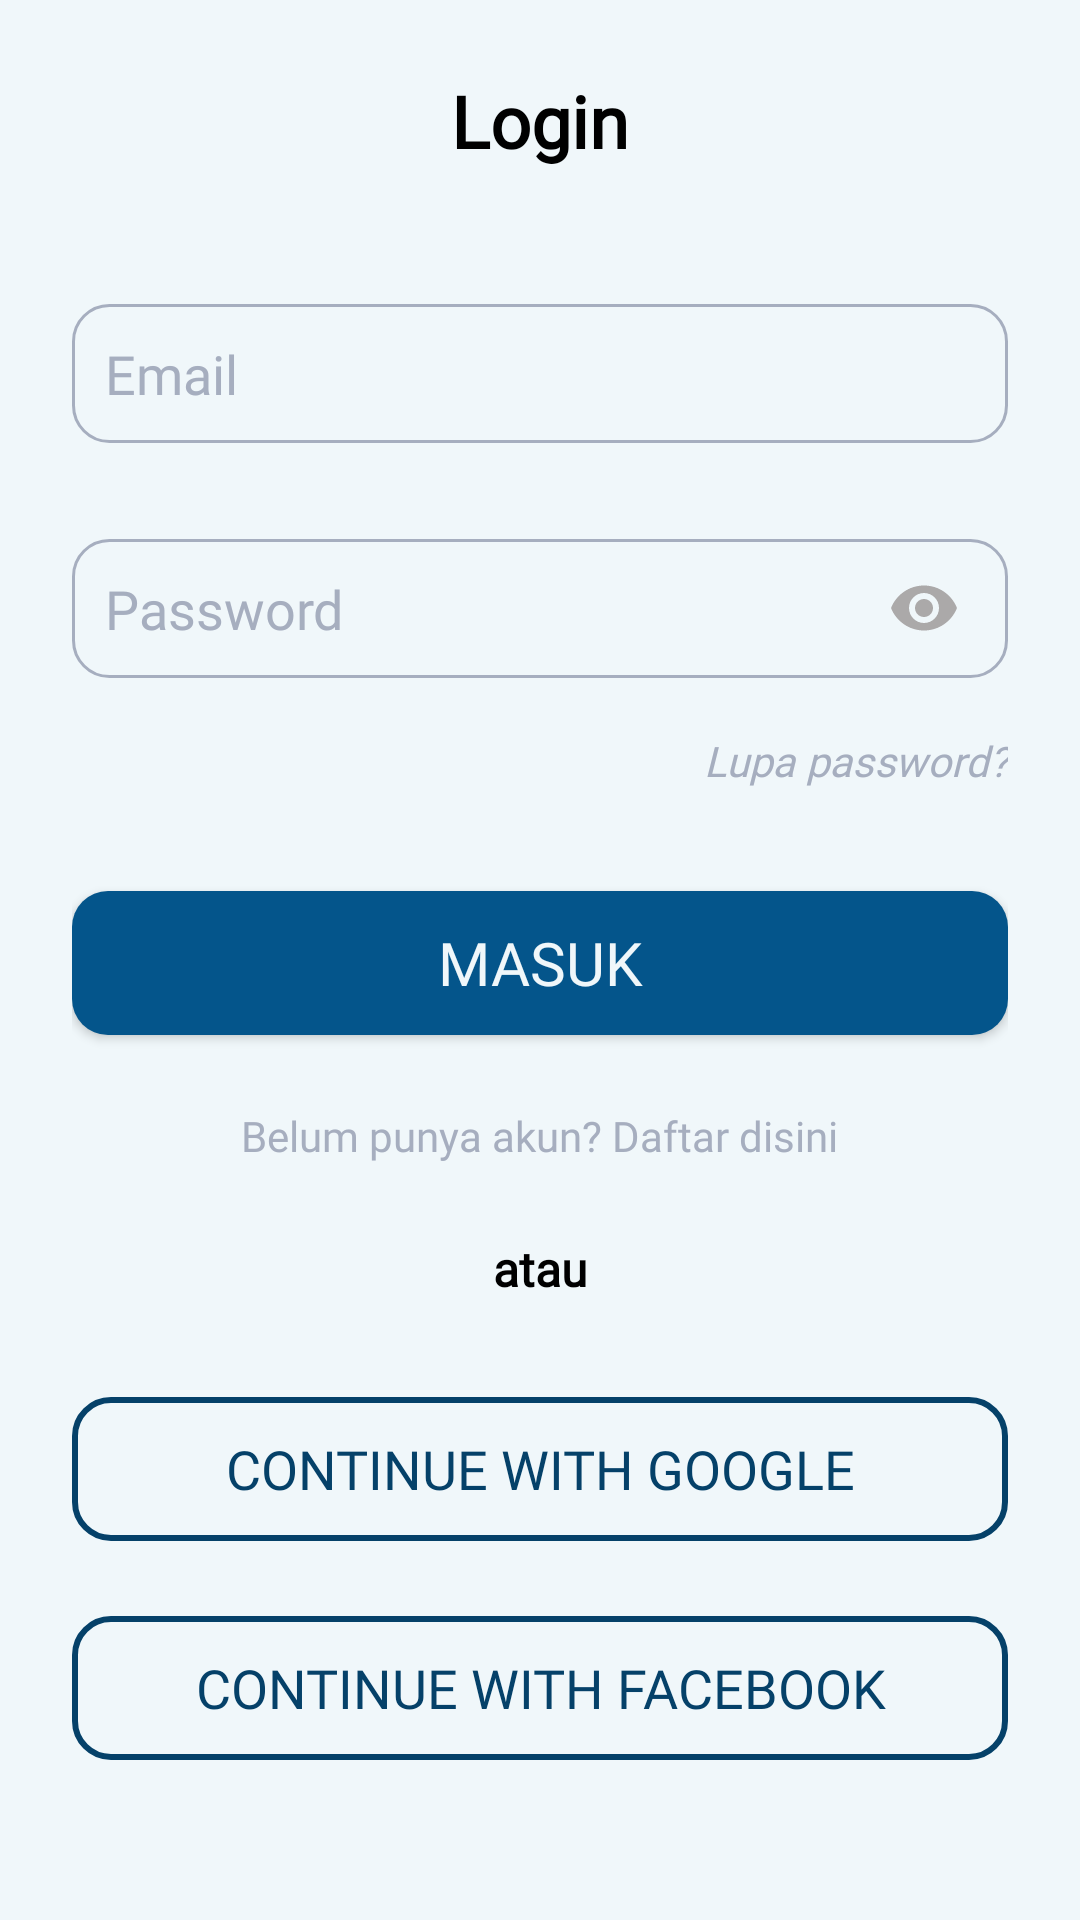

Named icons in this screenshot (1080w x 1920h) and their bounding boxes, (x1, y1, x2, y2):
visibility: (891, 585, 957, 631)
